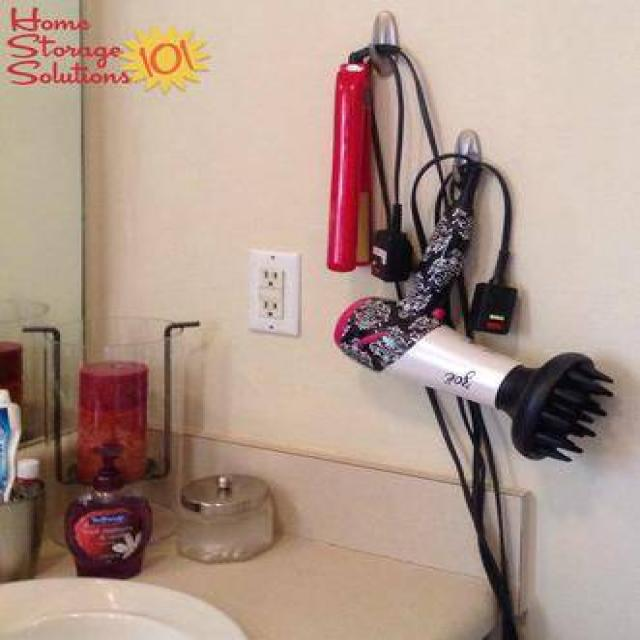dryer: (315, 130, 629, 470)
